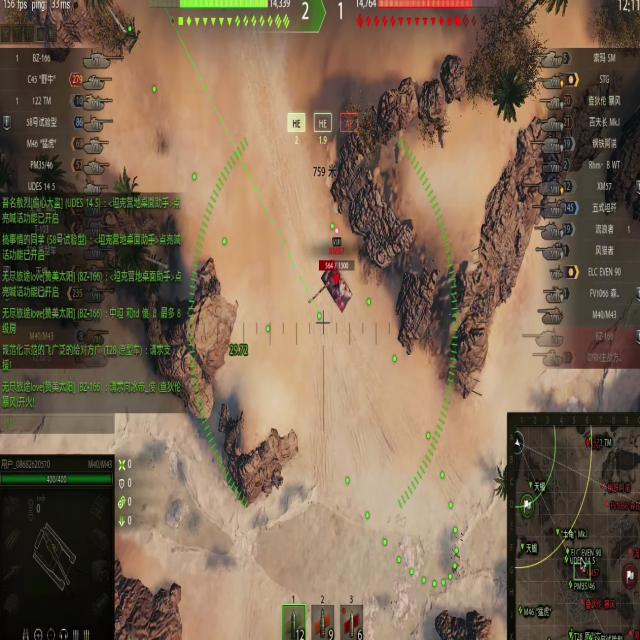tank: (314, 257, 358, 312)
